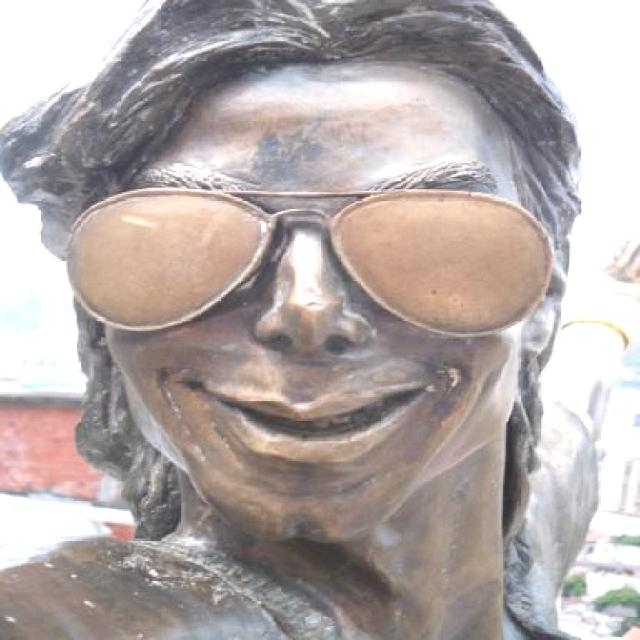glasses: (60, 184, 562, 330)
